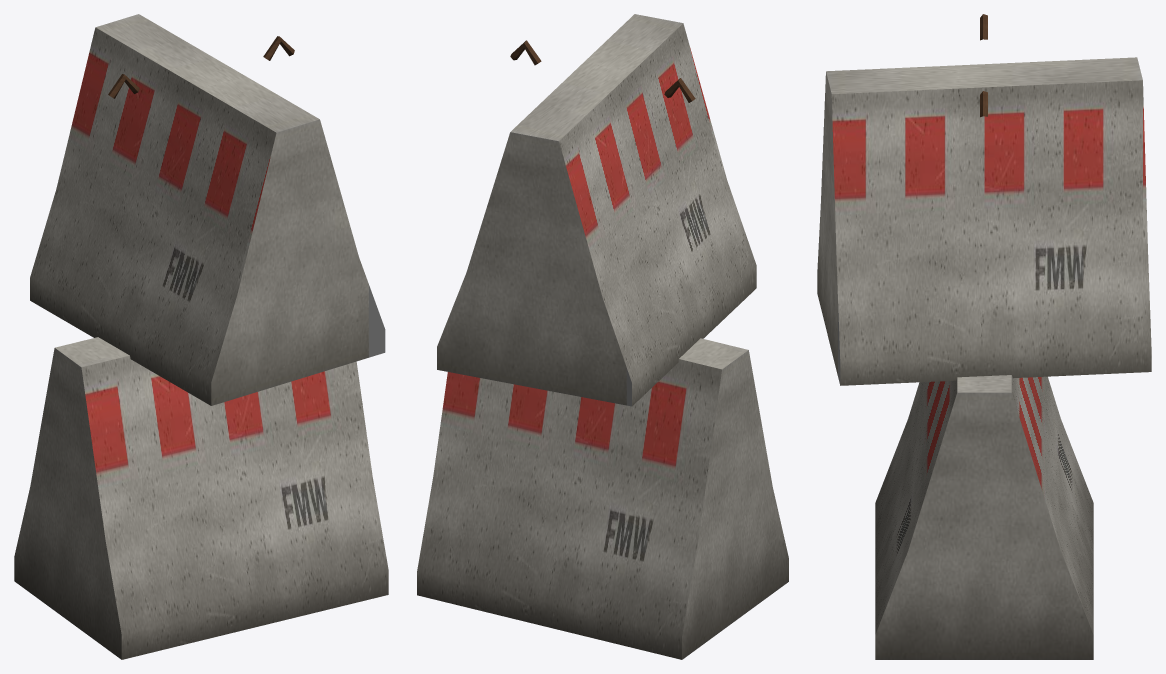
File: prop_pillar_jersey.glb
The picture shows the model from 3 angles, left to right: view 1: azimuth 30°, elevation 25°; view 2: azimuth 150°, elevation 25°; view 3: azimuth 270°, elevation 25°; orthographic projection. The views are drawn at different scales.
Visible parts, largest first — view 1: prop_pillar_jersey_body; view 2: prop_pillar_jersey_body; view 3: prop_pillar_jersey_body.
Boxes of the visible parts, <box> form: prop_pillar_jersey_body: <box>14,14,388,659</box>; prop_pillar_jersey_body: <box>417,14,788,659</box>; prop_pillar_jersey_body: <box>817,14,1151,659</box>.
Bounding box in the file's own units: 0.86 × 1.64 × 0.918.
Materials: 1 (1 with a texture image).
